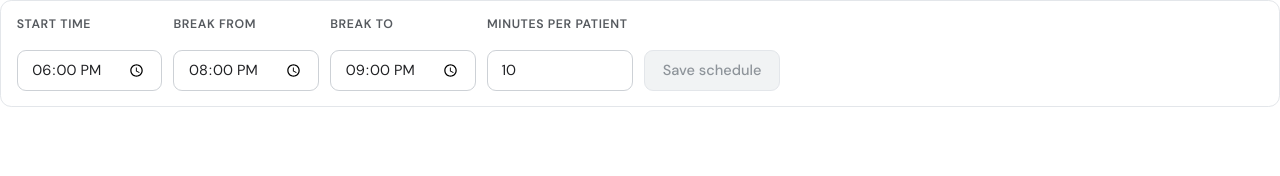
OpdScheduleBar › a break that ends before it starts is refused in the same way
Replace the text in the time field labelled "Break from" with "21:30": (246, 70) [174,50,319,91]
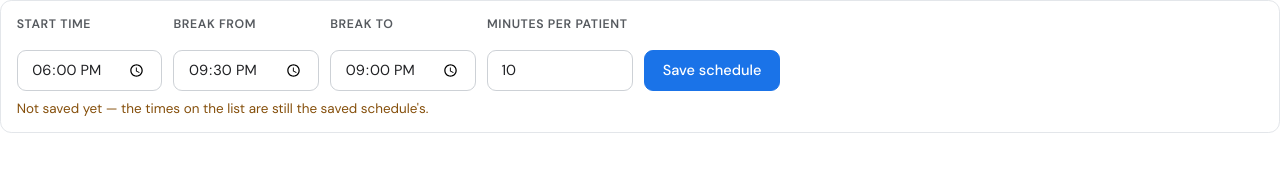
Click the button "Save schedule": (712, 70) [644,50,780,91]
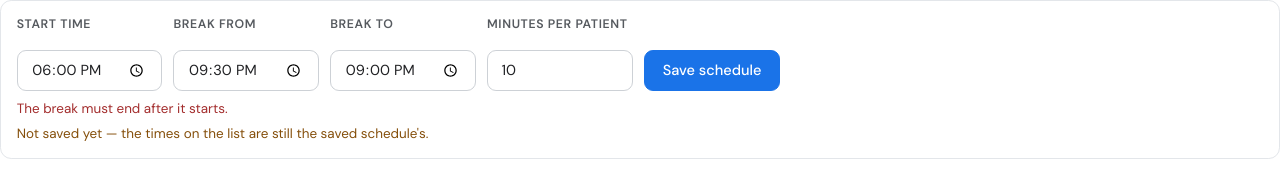
expect the message reads "The break must end after it starts.": met, box [17,100,228,116]
